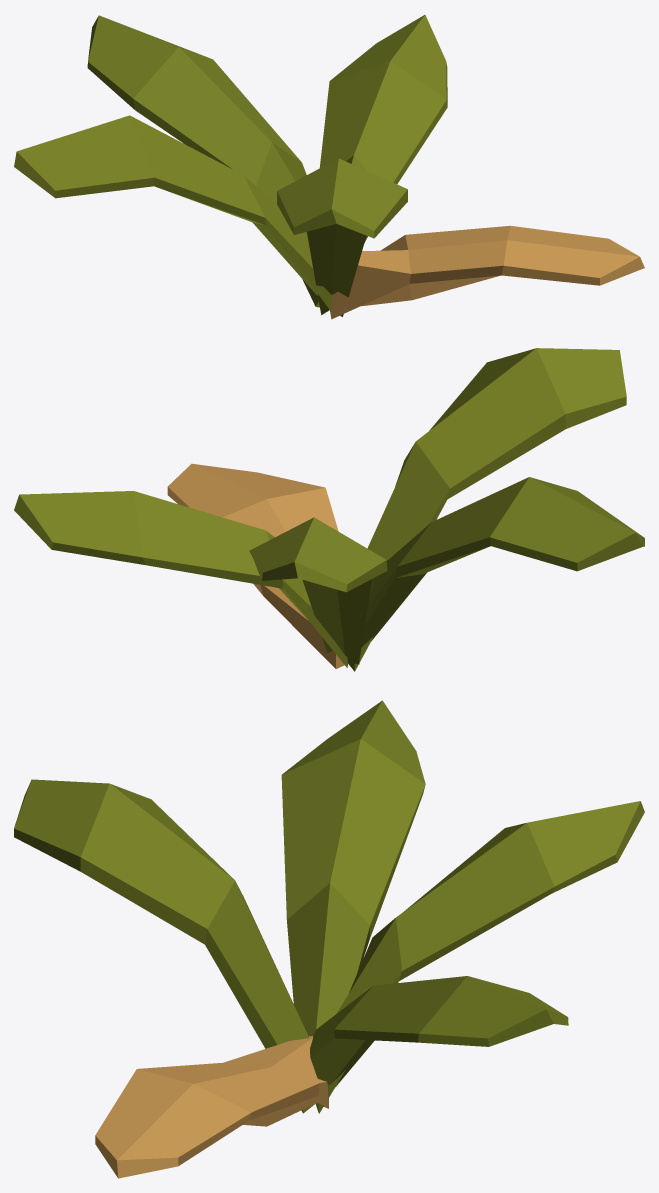
The model's file is Aleo_3.fbx.
The picture shows the model from 3 angles, top to bottom: view 1: azimuth 30°, elevation 25°; view 2: azimuth 150°, elevation 25°; view 3: azimuth 270°, elevation 25°; orthographic projection. The views are drawn at different scales.
Visible parts, largest first — view 1: Aloe_3; view 2: Aloe_3; view 3: Aloe_3.
Part boxes in pixels (<box>): Aloe_3: <box>14,15,644,319</box>; Aloe_3: <box>14,348,644,671</box>; Aloe_3: <box>14,700,644,1178</box>.
Size of the model in its own units: 0.0912 by 0.0404 by 0.0823.
